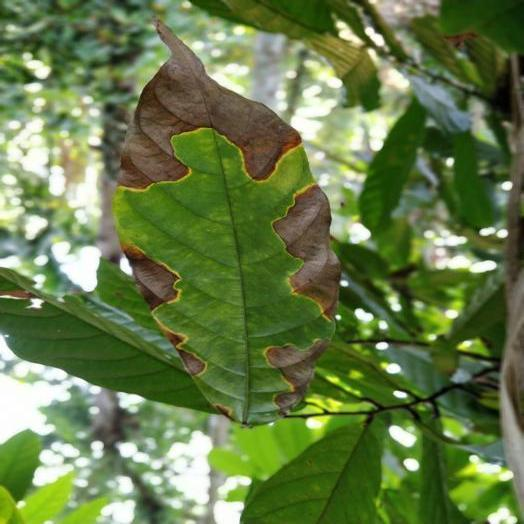Potassium: (114, 23, 339, 424)
